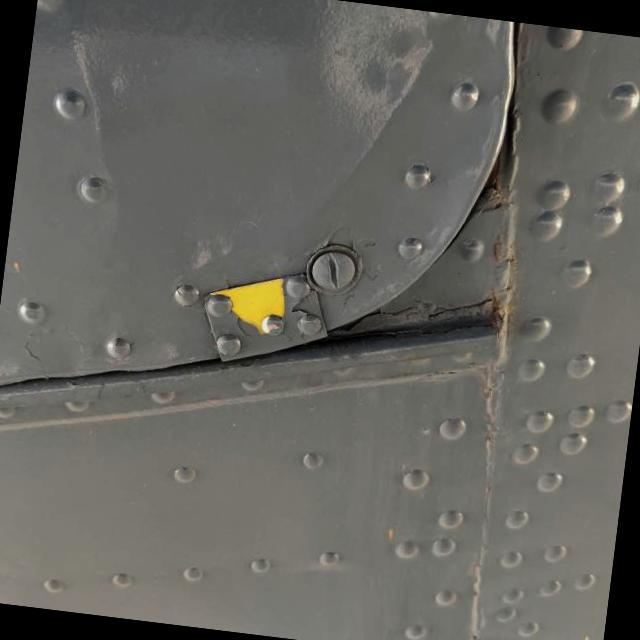paint-off: (194, 249, 304, 344)
